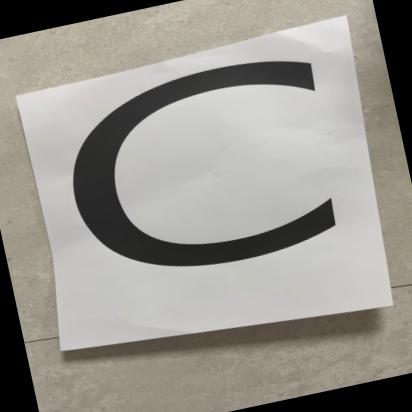seat: (27, 38, 389, 355)
